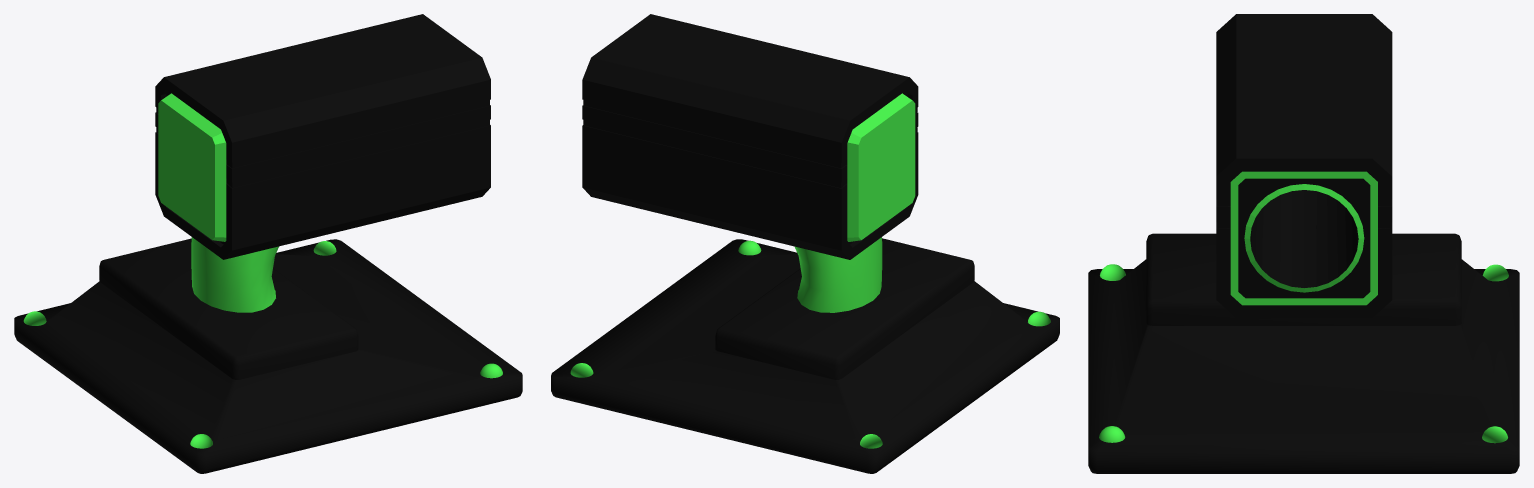
The model's file is Tanker2.FBX.
3 views of the same model, side by side, from view 1: azimuth 30°, elevation 25°; view 2: azimuth 150°, elevation 25°; view 3: azimuth 270°, elevation 25° (orthographic). The views are drawn at different scales.
Visible parts, largest first — view 1: ChamferBox001, Box001, 对象001, Cylinder001, Sphere003; view 2: ChamferBox001, Box001, 对象001, Cylinder001, Sphere003; view 3: ChamferBox001, Box001, 对象001, Sphere003.
Part boxes in pixels (<box>): ChamferBox001: <box>14,238,522,473</box>; Box001: <box>155,14,490,259</box>; 对象001: <box>158,93,226,241</box>; Cylinder001: <box>191,237,278,312</box>; Sphere003: <box>23,241,502,448</box>; ChamferBox001: <box>551,238,1059,473</box>; Box001: <box>582,14,918,259</box>; 对象001: <box>847,93,915,241</box>; Cylinder001: <box>795,237,882,312</box>; Sphere003: <box>570,240,1050,448</box>; ChamferBox001: <box>1088,233,1519,473</box>; Box001: <box>1216,14,1392,318</box>; 对象001: <box>1230,171,1377,305</box>; Sphere003: <box>1099,264,1508,443</box>.
Size of the model in its own units: 41.95 by 33.17 by 39.24.
